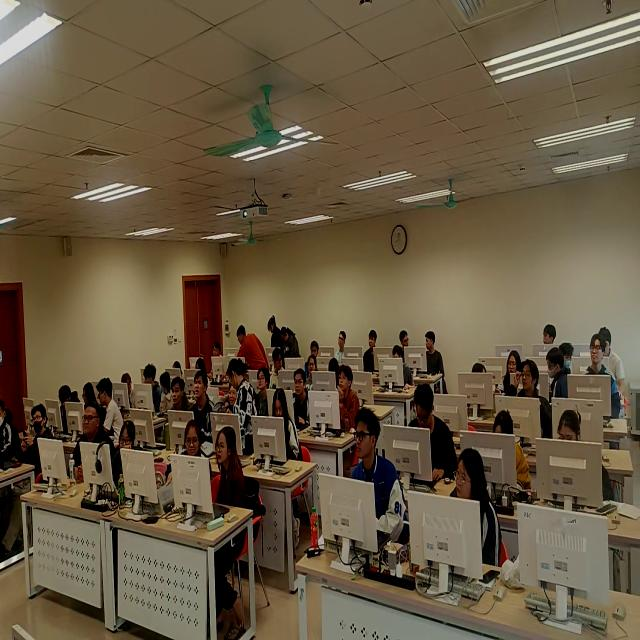raise_head: (1, 403, 54, 565), (349, 407, 407, 552), (449, 450, 504, 568), (68, 401, 110, 484), (586, 332, 622, 419), (517, 358, 551, 441), (191, 369, 214, 445), (336, 364, 360, 432), (1, 401, 24, 469), (291, 366, 311, 431), (503, 348, 522, 396), (365, 328, 380, 374), (259, 366, 272, 419), (171, 374, 189, 412), (210, 340, 223, 383), (337, 328, 348, 363), (307, 356, 319, 386), (227, 383, 238, 414), (310, 339, 321, 359)
stand: (228, 357, 261, 458), (236, 324, 271, 369), (281, 325, 302, 357), (268, 314, 282, 348)
using_computer: (406, 384, 461, 488), (556, 409, 613, 504), (272, 388, 304, 553), (492, 409, 533, 494), (112, 419, 140, 494), (599, 325, 626, 391), (392, 344, 415, 388), (328, 357, 341, 390), (196, 357, 209, 378), (172, 358, 185, 377)
